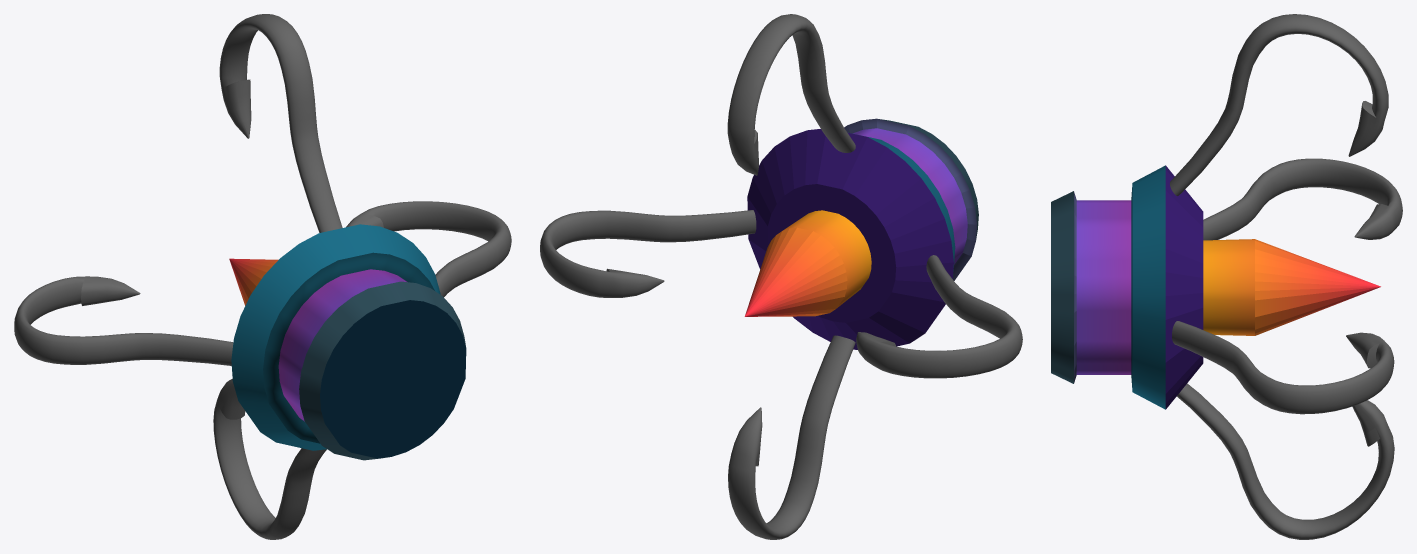
File: new hook.fbx
The picture shows the model from 3 angles, left to right: view 1: azimuth 30°, elevation 25°; view 2: azimuth 150°, elevation 25°; view 3: azimuth 270°, elevation 25°; orthographic projection. The views are drawn at different scales.
Parts seen in each view (by area): view 1: pasted__pasted__polySurface4, pasted__MeatHook5, pasted__MeatHook9, pasted__MeatHook11, pasted__MeatHook10; view 2: pasted__pasted__polySurface4, pasted__MeatHook11, pasted__MeatHook10, pasted__MeatHook5, pasted__MeatHook9; view 3: pasted__pasted__polySurface4, pasted__MeatHook10, pasted__MeatHook5, pasted__MeatHook11, pasted__MeatHook9.
Part boxes in pixels (x1,y1,x2,y2): pasted__pasted__polySurface4: [229, 224, 466, 460]; pasted__MeatHook5: [219, 14, 342, 232]; pasted__MeatHook9: [14, 276, 233, 365]; pasted__MeatHook11: [213, 379, 326, 539]; pasted__MeatHook10: [346, 201, 511, 296]; pasted__pasted__polySurface4: [744, 118, 978, 349]; pasted__MeatHook11: [728, 335, 855, 539]; pasted__MeatHook10: [540, 210, 756, 297]; pasted__MeatHook5: [727, 14, 855, 175]; pasted__MeatHook9: [856, 255, 1022, 378]; pasted__pasted__polySurface4: [1051, 165, 1380, 409]; pasted__MeatHook10: [1172, 321, 1394, 414]; pasted__MeatHook5: [1170, 14, 1388, 195]; pasted__MeatHook11: [1177, 383, 1394, 539]; pasted__MeatHook9: [1203, 158, 1402, 240].
Bounding box in the file's own units: 29.76 × 30.95 × 18.9.
Materials: 2 (1 with a texture image).
